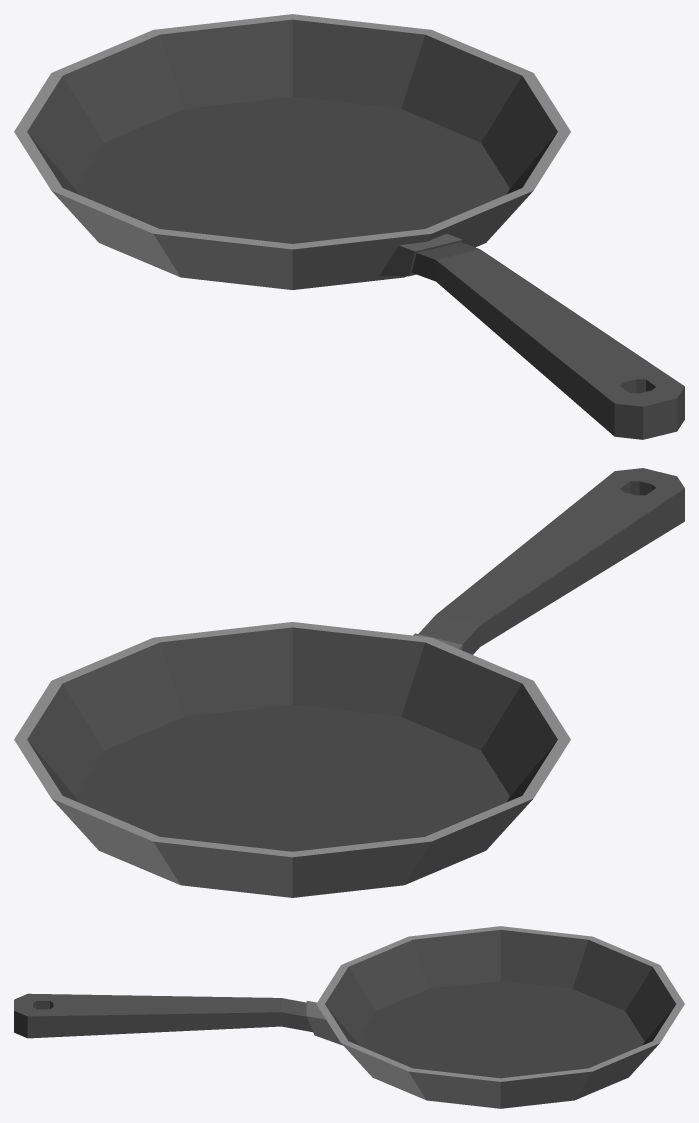
The model's file is Pan_05_C1.fbx.
3 views of the same model, one above another, from view 1: azimuth 30°, elevation 25°; view 2: azimuth 150°, elevation 25°; view 3: azimuth 270°, elevation 25° (orthographic). The views are drawn at different scales.
Visible parts, largest first — view 1: Pan_05_C1; view 2: Pan_05_C1; view 3: Pan_05_C1.
Boxes of the visible parts, x1,y1,x2,y2 form: Pan_05_C1: (14,14,684,439); Pan_05_C1: (14,468,684,897); Pan_05_C1: (14,926,684,1108).
Bounding box in the file's own units: 27.92 × 3.53 × 50.82.
